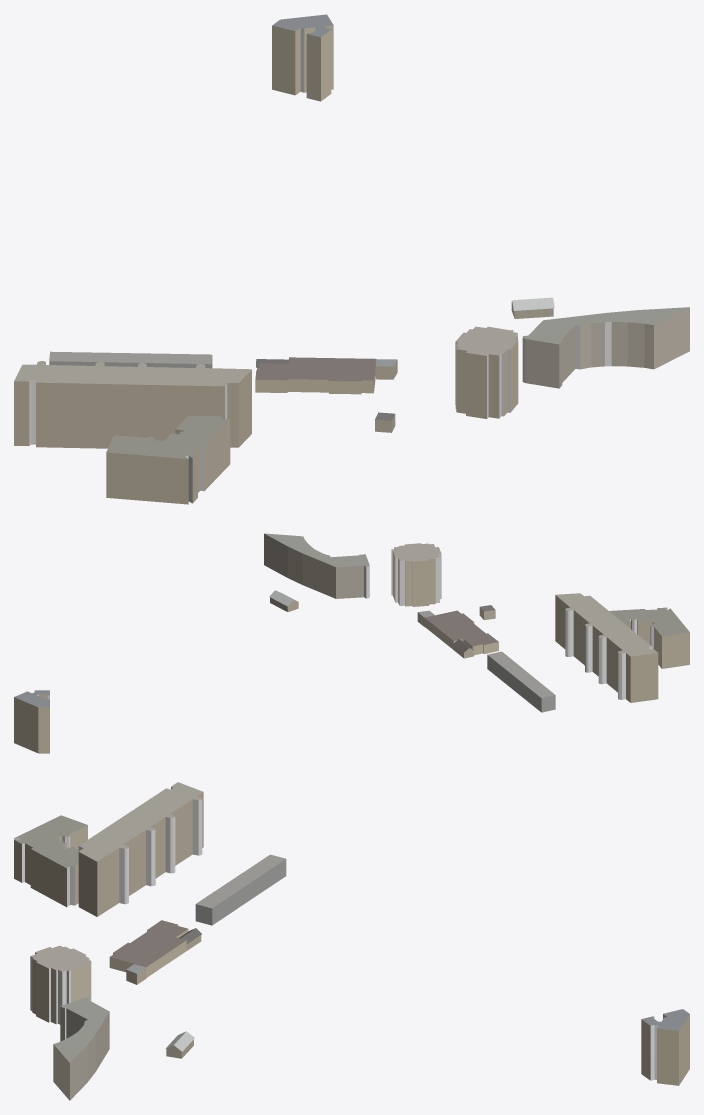
3 renders of one model, top to bottom at view 1: azimuth 30°, elevation 25°; view 2: azimuth 150°, elevation 25°; view 3: azimuth 270°, elevation 25°, orthographic. The views are drawn at different scales.
Parts seen in each view (by area): view 1: tuile; view 2: tuile; view 3: tuile.
Part boxes in pixels (x1,y1,x2,y2): tuile: [14, 14, 689, 504]; tuile: [14, 533, 689, 753]; tuile: [14, 782, 689, 1100].
Size of the model in its own units: 244 by 29.77 by 272.
